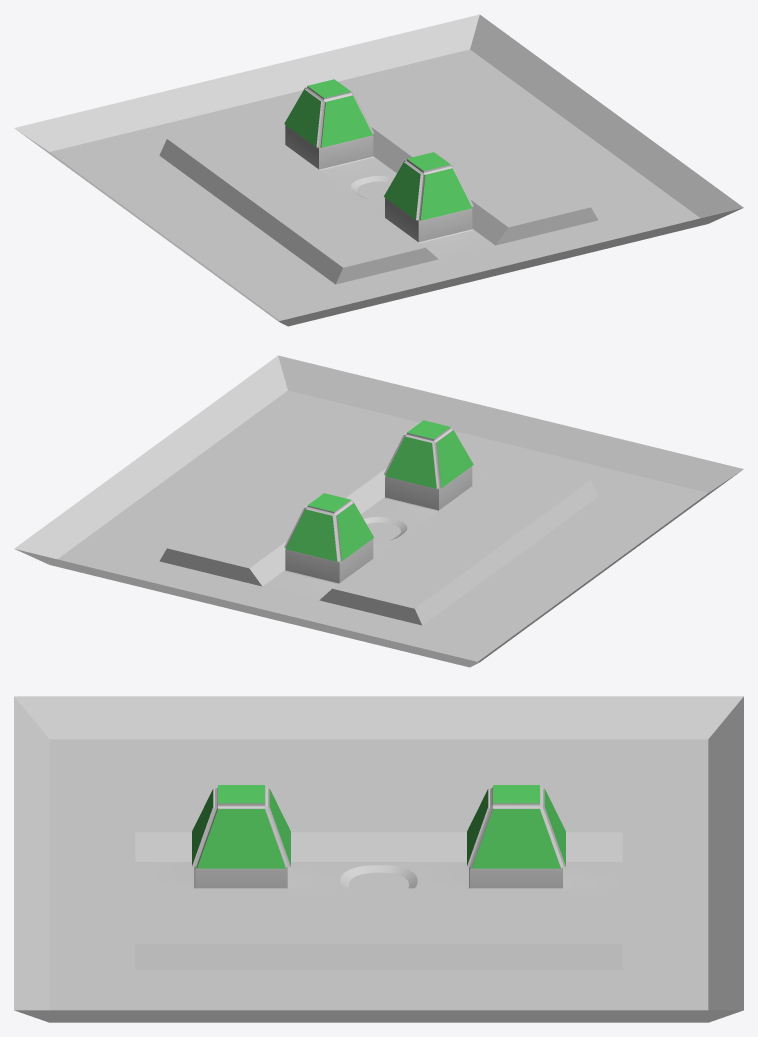
The model's file is ceiling_fin.fbx.
3 views of the same model, one above another, from view 1: azimuth 30°, elevation 25°; view 2: azimuth 150°, elevation 25°; view 3: azimuth 270°, elevation 25° (orthographic). The views are drawn at different scales.
Visible parts, largest first — view 1: Plane.018; view 2: Plane.018; view 3: Plane.018.
Part boxes in pixels (x1=…): Plane.018: x1=14, y1=14, x2=743, y2=326; Plane.018: x1=14, y1=355, x2=743, y2=667; Plane.018: x1=14, y1=696, x2=743, y2=1022.
Size of the model in its own units: 556113 by 74953 by 546167.
